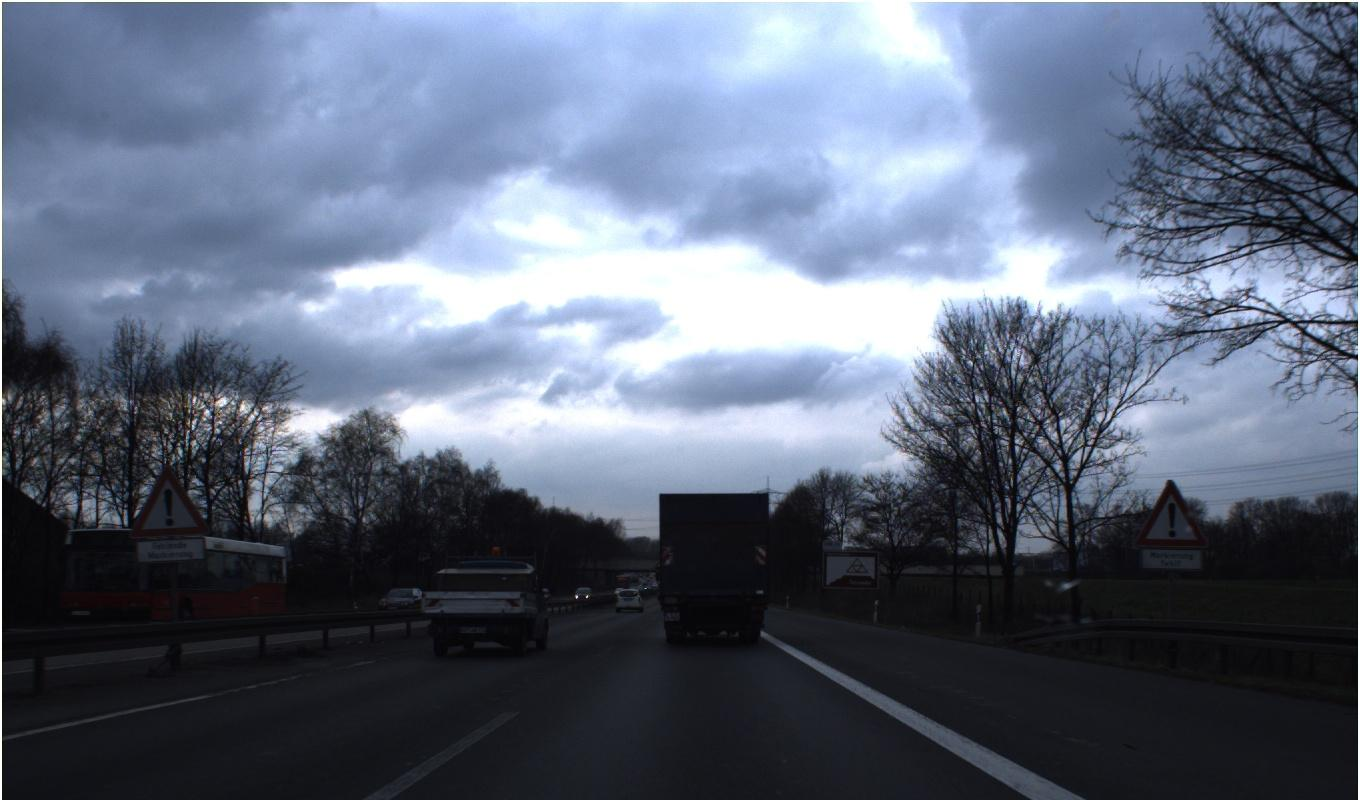danger: (128, 463, 1210, 549)
